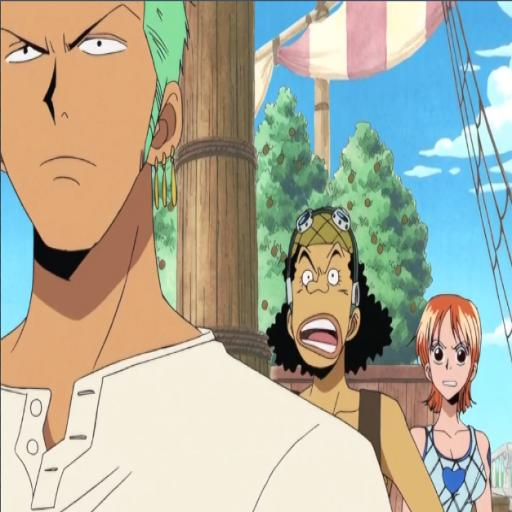Nami: (406, 282, 512, 512)
Usopp: (238, 214, 424, 512)
Zoro: (0, 0, 224, 512)
